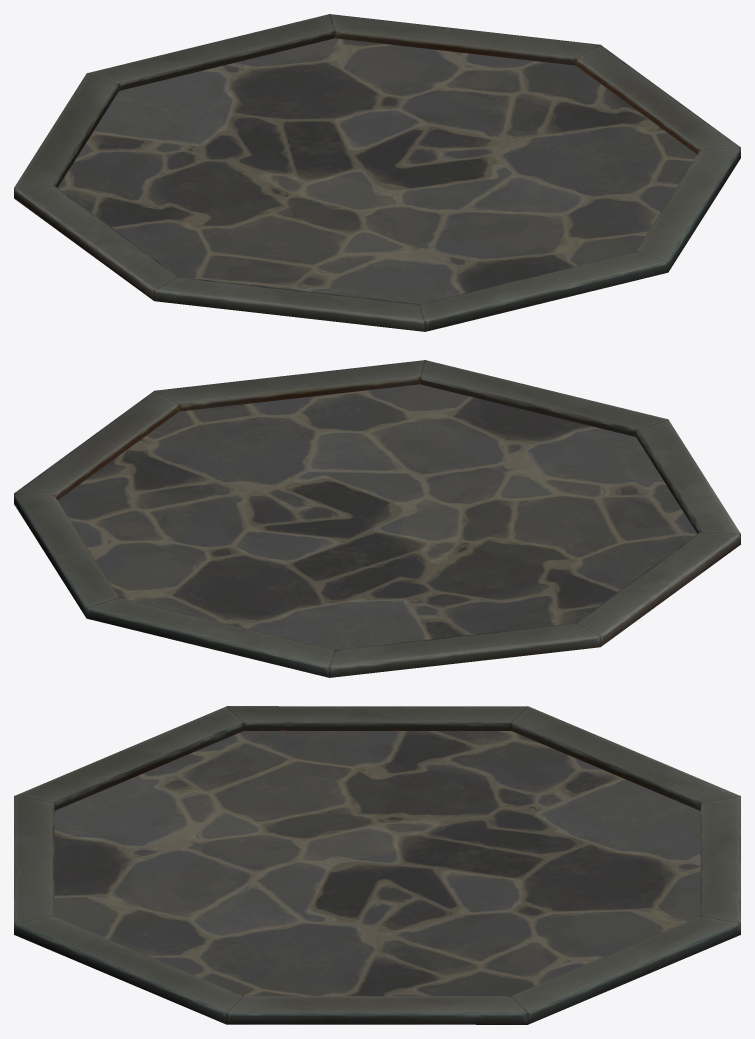
Rendered from SM_Temple_Base_02.glb.
3 views of the same model, one above another, from view 1: azimuth 30°, elevation 25°; view 2: azimuth 150°, elevation 25°; view 3: azimuth 270°, elevation 25° (orthographic). The views are drawn at different scales.
Visible parts, largest first — view 1: SM_Temple_Base_02; view 2: SM_Temple_Base_02; view 3: SM_Temple_Base_02.
Boxes of the visible parts, <box> form: SM_Temple_Base_02: <box>14,14,740,331</box>; SM_Temple_Base_02: <box>14,360,740,677</box>; SM_Temple_Base_02: <box>14,706,740,1024</box>.
Size of the model in its own units: 12.13 by 0.2104 by 12.13.
1 material, 1 textured.
